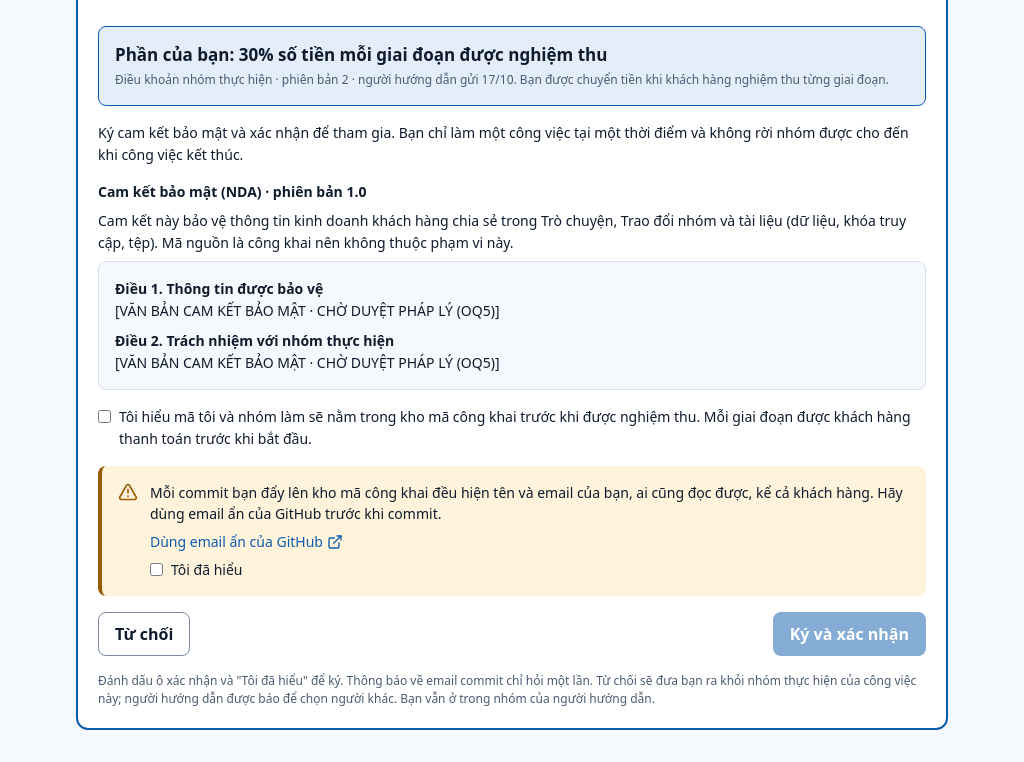
Test: "Việc tôi tham gia" on CUS-7: the Crew assignment panel (FR-75, N-19, UX-DR86) › signs the NDA and confirms the version shown once N-5 and N-23 are ticked
(page scrolled)
Expected: the text "Phần của bạn: 30% số tiền mỗi giai đoạn được nghiệm thu" is shown, x1=115 y1=43 x2=607 y2=66
Expected: the text "Bạn chỉ làm một công việc tại một thời điểm" is shown, x1=98 y1=123 x2=909 y2=164
Click the checkbox named "kho mã công khai trước khi được nghiệm thu" at point(104, 417), box x1=98 y1=410 x2=111 y2=423
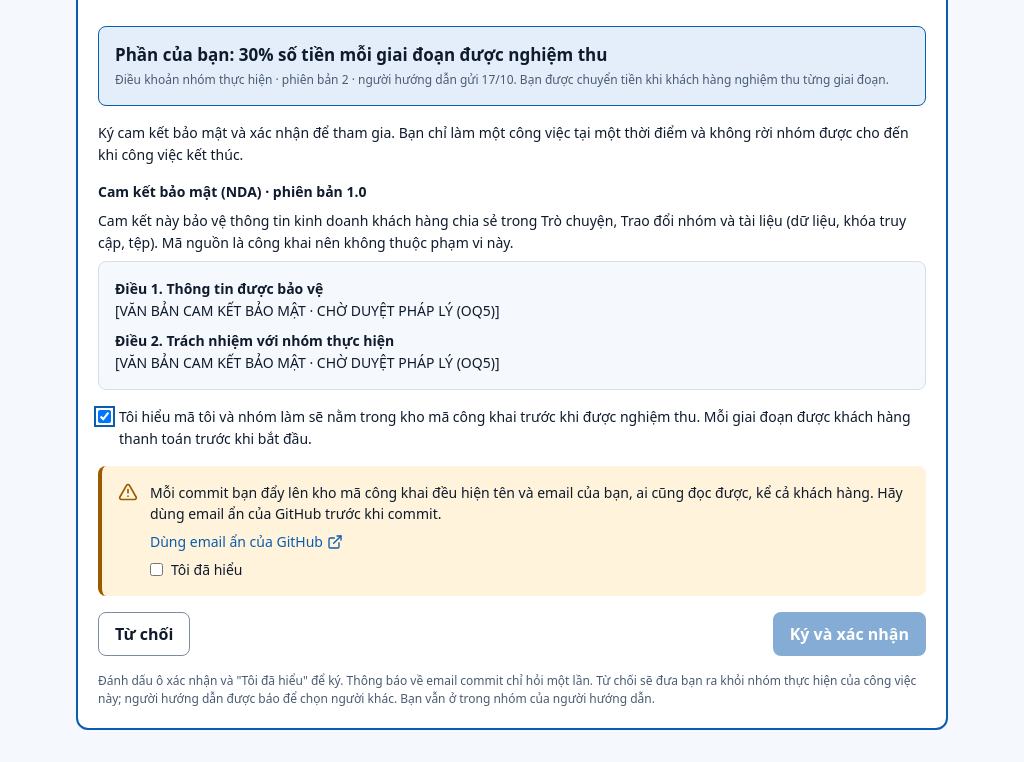
Expected: the button "Ký và xác nhận" is disabled, x1=773 y1=612 x2=926 y2=656
Click the checkbox labelled "Tôi đã hiểu" at point(156, 570), box x1=150 y1=563 x2=163 y2=576
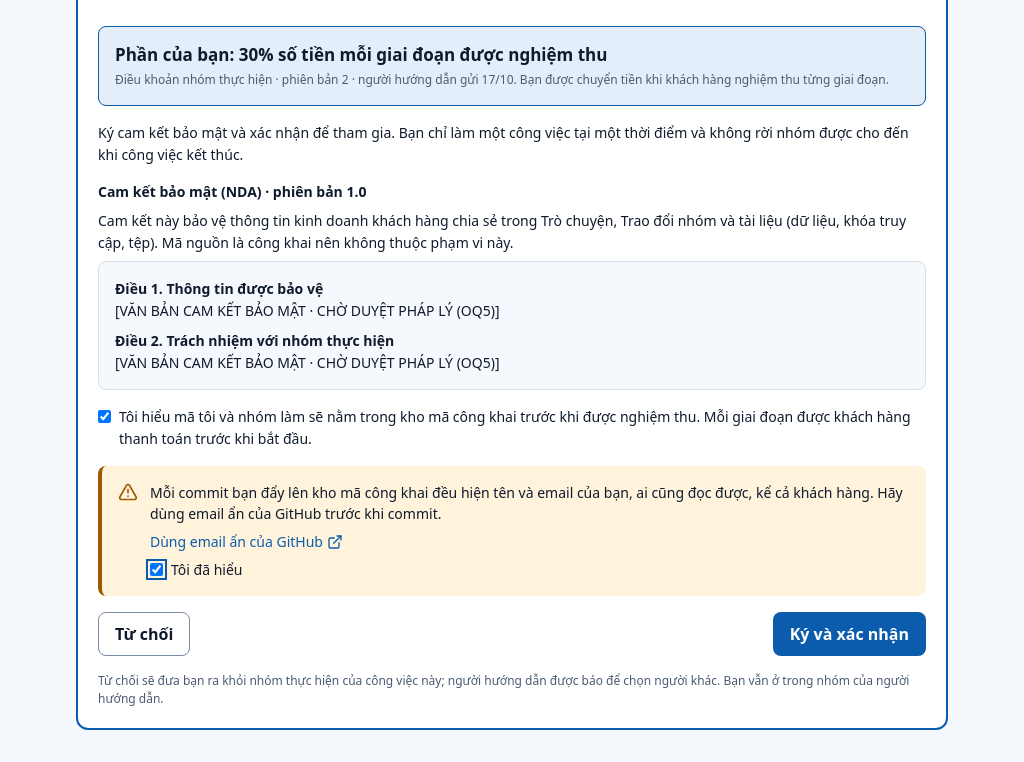
Click the button "Ký và xác nhận" at point(849, 634), box x1=773 y1=612 x2=926 y2=656
(page scrolled)
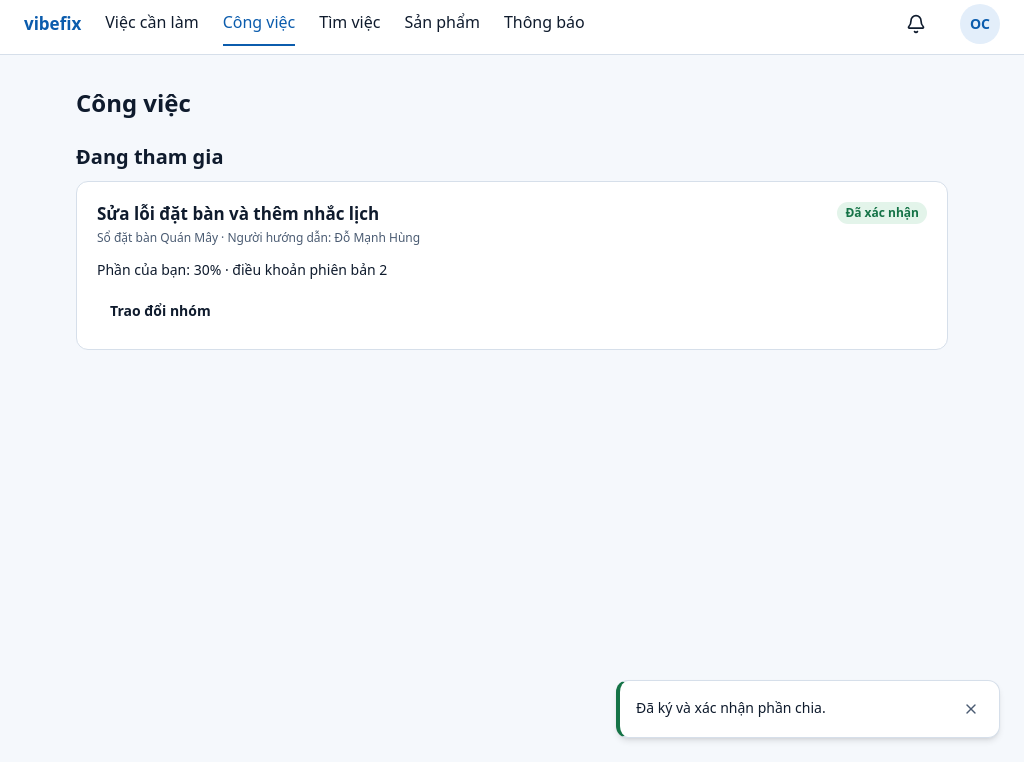
Expected: the heading "Đã ký và xác nhận phần chia." is shown, x1=636 y1=698 x2=826 y2=717
Expected: the heading "Đang tham gia" is shown, x1=76 y1=143 x2=224 y2=170
Expected: the text "Phần của bạn: 30% · điều khoản phiên bản 2" is shown, x1=97 y1=260 x2=387 y2=279
